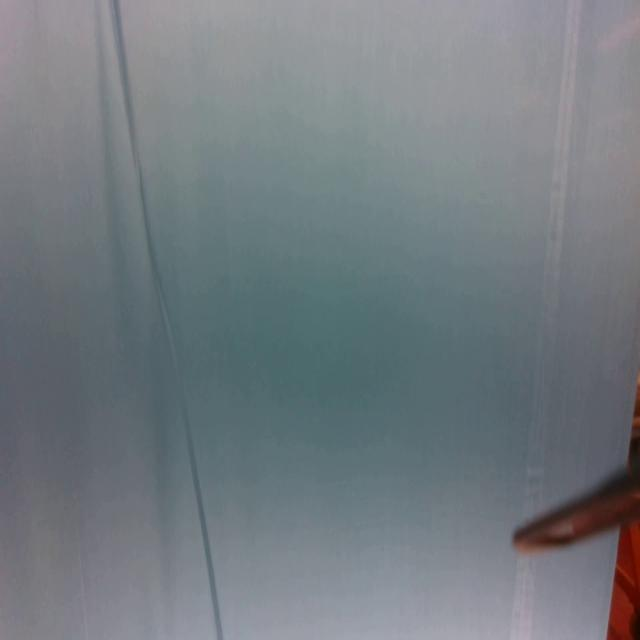crease: (111, 0, 224, 640), (522, 0, 579, 499), (71, 476, 91, 640), (515, 554, 535, 638)
